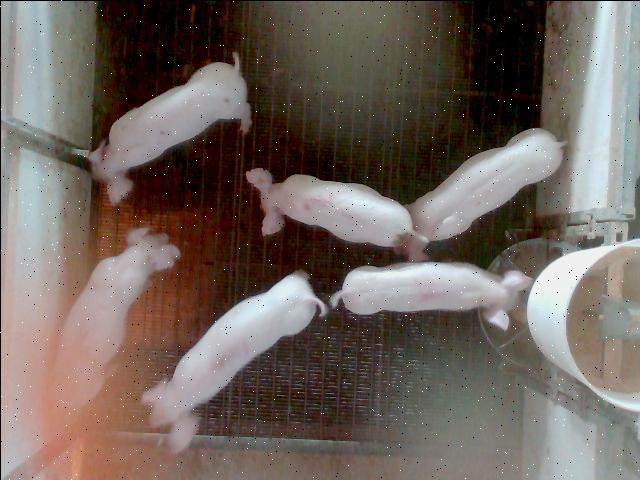pig-4: (330, 262, 531, 328)
pig-5: (246, 168, 412, 246)
